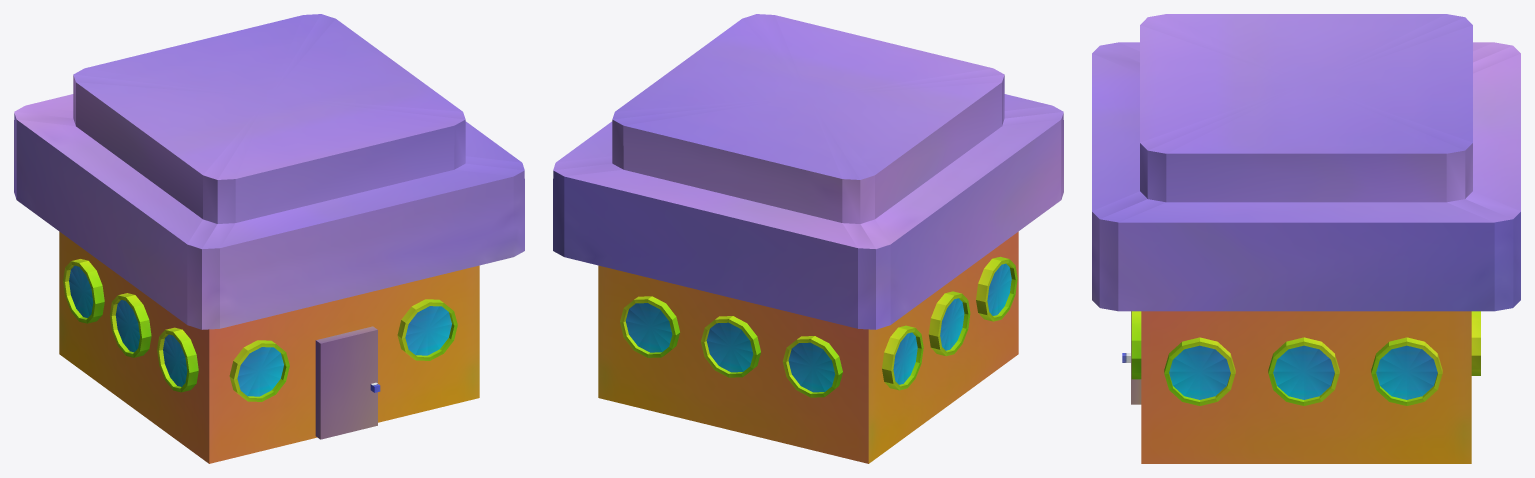
Rendered from House_16.glb.
The picture shows the model from 3 angles, left to right: view 1: azimuth 30°, elevation 25°; view 2: azimuth 150°, elevation 25°; view 3: azimuth 270°, elevation 25°; orthographic projection. The views are drawn at different scales.
Parts seen in each view (by area): view 1: House_16; view 2: House_16; view 3: House_16.
Boxes of the visible parts, box(x1,y1,x2,y2) form: House_16: box(14, 14, 524, 463); House_16: box(553, 14, 1063, 463); House_16: box(1092, 14, 1520, 463).
Size of the model in its own units: 796 by 634 by 801.
Materials: 1 (1 with a texture image).
